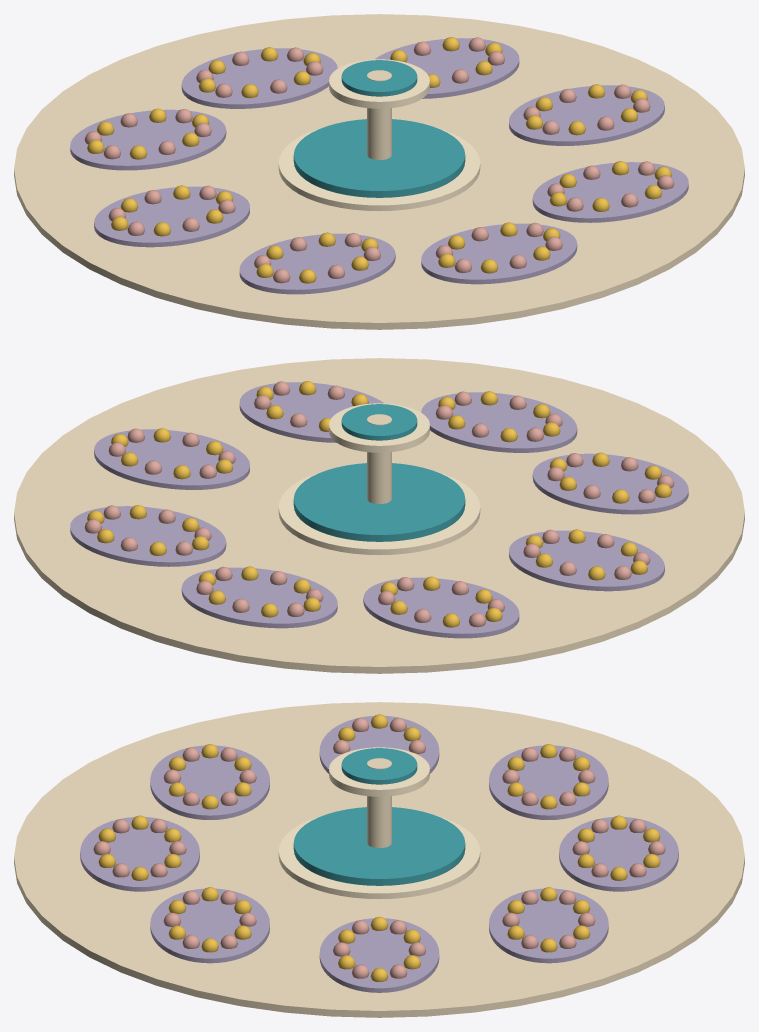
File: garden.glb
3 views of the same model, one above another, from view 1: azimuth 30°, elevation 25°; view 2: azimuth 150°, elevation 25°; view 3: azimuth 270°, elevation 25° (orthographic).
Bounding box in the file's own units: 5.8 × 0.875 × 5.8.
